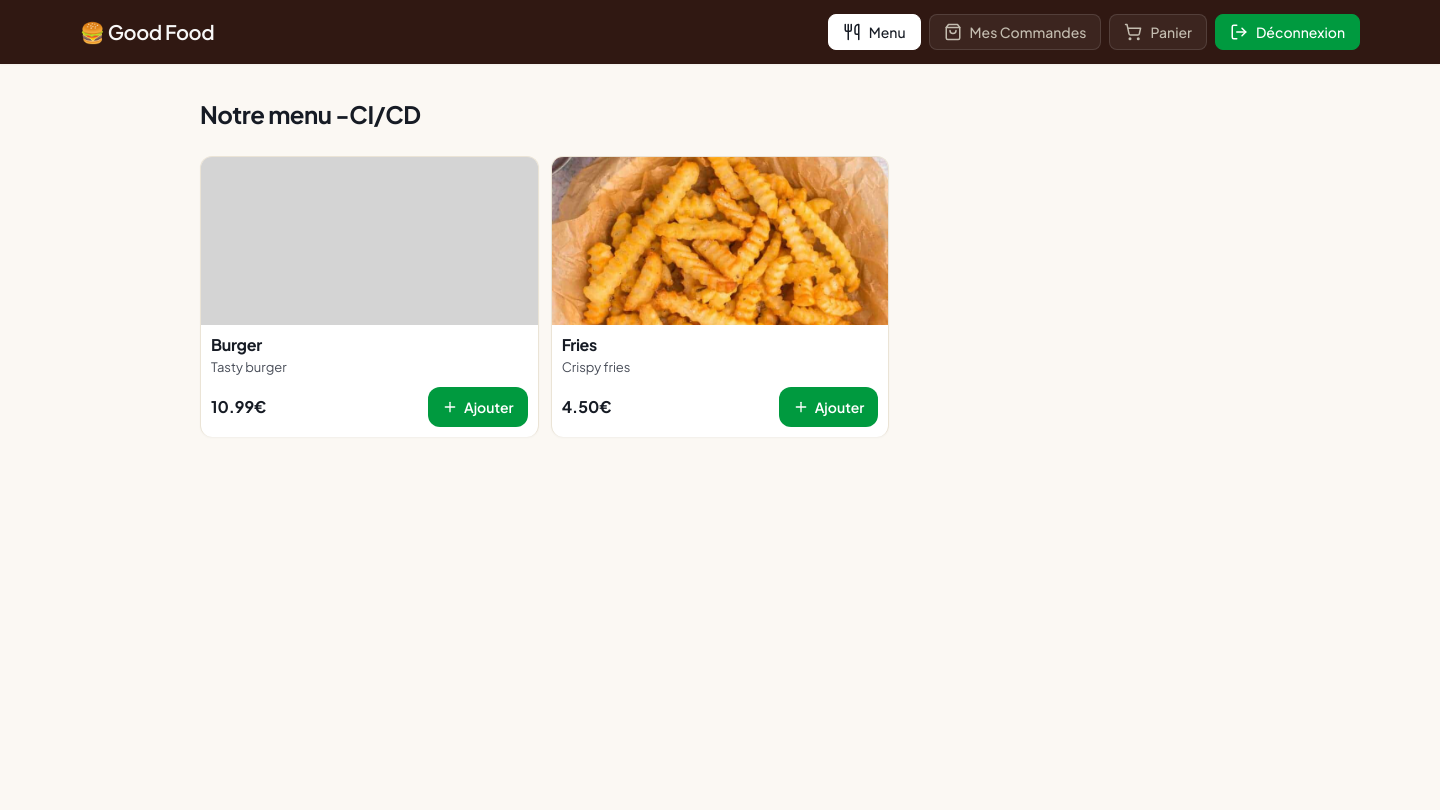
Test: CustomerDashboard Component › adds items to cart and opens cart modal
Expected: the heading "Burger" is shown, [211,334,262,355]
Step 1. Click the button "Ajouter" in the row of "10.99" → {"x": 478, "y": 407}, box [428,387,528,427]
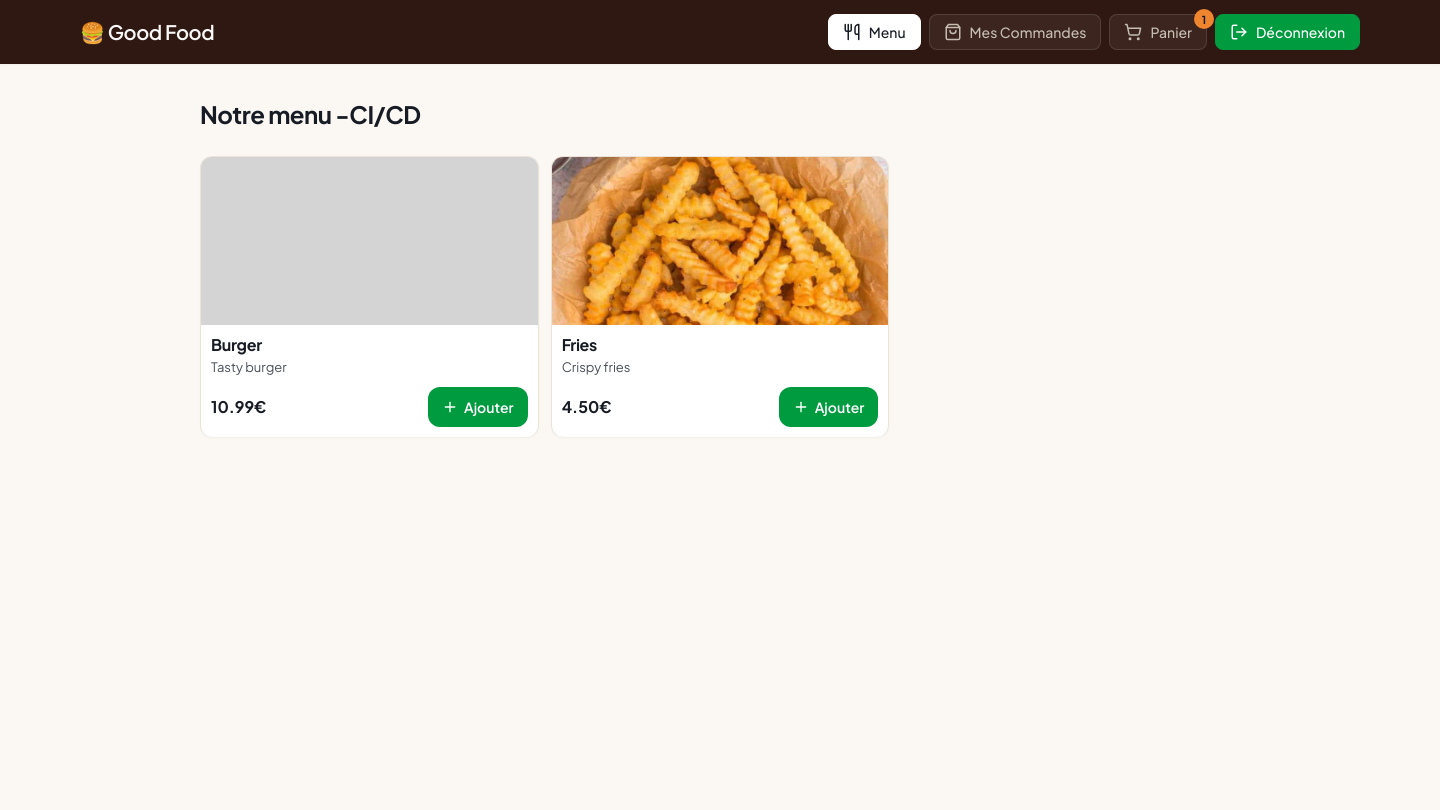
Result: the text "1" is shown at [1194,9,1214,29]
Step 2. Click the button with aria-label "Ouvrir le panier" → {"x": 1158, "y": 32}, box [1110,14,1207,50]
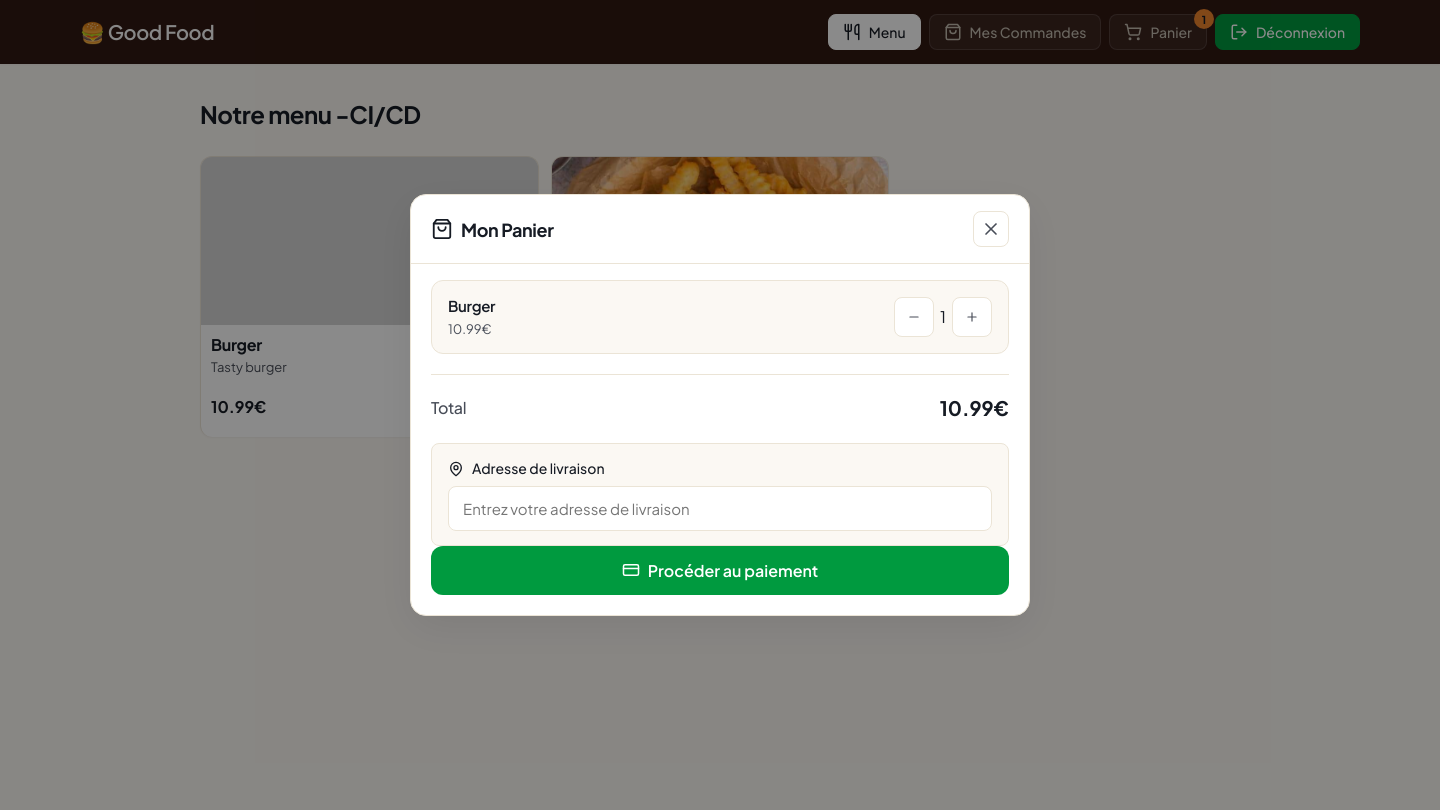
Expected: the text "10.99€" below "Tasty burger" is shown, [211,395,266,419]
Result: the heading "Mon Panier" is shown at [431,216,554,243]
